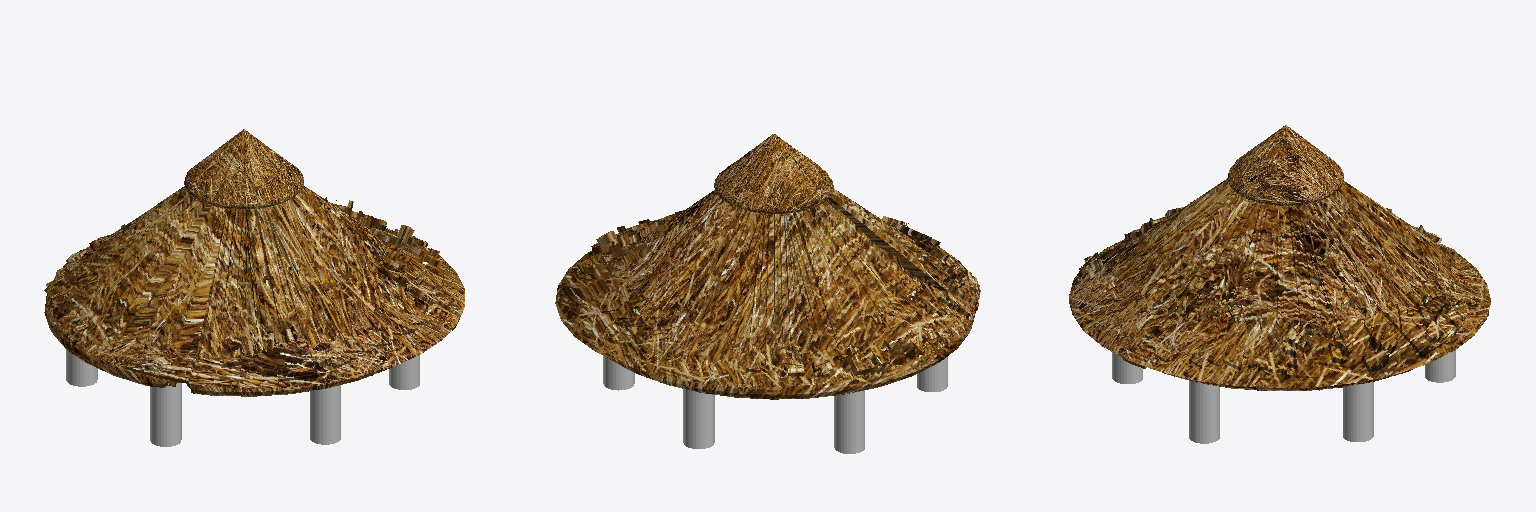
3 renders of one model, left to right at view 1: azimuth 30°, elevation 25°; view 2: azimuth 150°, elevation 25°; view 3: azimuth 270°, elevation 25°, orthographic.
Visible parts, largest first — view 1: Cono, Cono.002, Cilindro.004; view 2: Cono, Cono.002, Cilindro.004; view 3: Cono, Cono.002, Cilindro.004.
Boxes of the visible parts, x1,y1,x2,y2 form: Cono: [44, 129, 413, 396]; Cono.002: [44, 197, 464, 387]; Cilindro.004: [66, 349, 419, 446]; Cono: [607, 134, 975, 399]; Cono.002: [555, 210, 980, 386]; Cilindro.004: [603, 356, 947, 453]; Cono: [1112, 125, 1460, 390]; Cono.002: [1069, 202, 1490, 390]; Cilindro.004: [1112, 350, 1455, 443].
Bounding box in the file's own units: 27.17 × 18.04 × 27.18.
Materials: 3 (2 with a texture image).